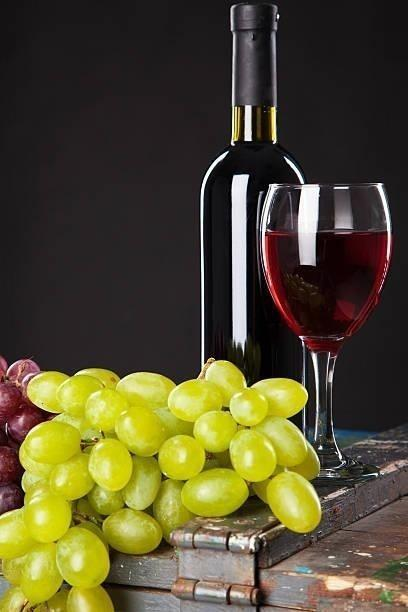bottle-glass: (195, 0, 308, 375)
glass-wine: (257, 180, 393, 478)
